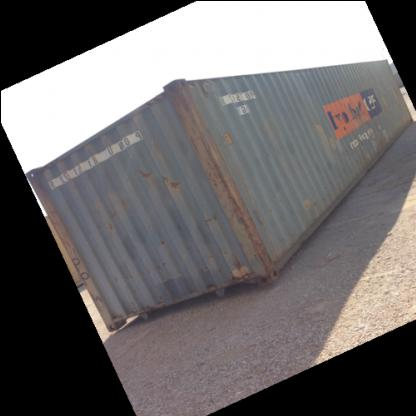Damage: (228, 194, 260, 245), (207, 140, 235, 192), (98, 191, 126, 237), (302, 187, 340, 213), (225, 250, 251, 278), (160, 168, 184, 196), (344, 95, 368, 123), (134, 160, 154, 182), (204, 206, 221, 223), (380, 88, 394, 105), (203, 273, 219, 287), (152, 234, 170, 246), (156, 254, 170, 269), (353, 134, 369, 146)
